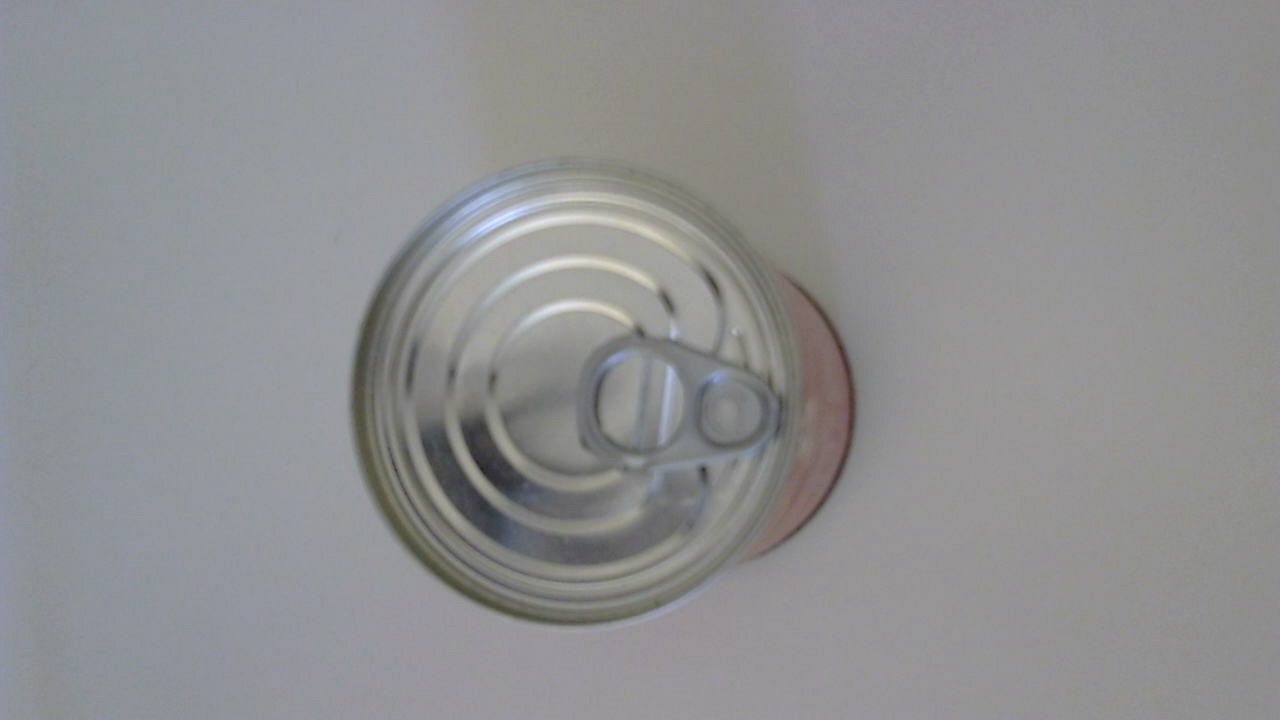Metal Tin: (343, 161, 870, 639)
